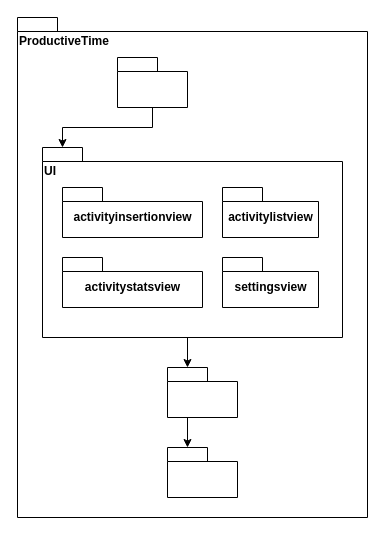
Some shapes in this 385 by 535 pixel diagram are drawn without their labels. Each missing label, with the centre of its shape:
Dao: the point at 202,472
Domain: the point at 202,392
Main: the point at 152,82
